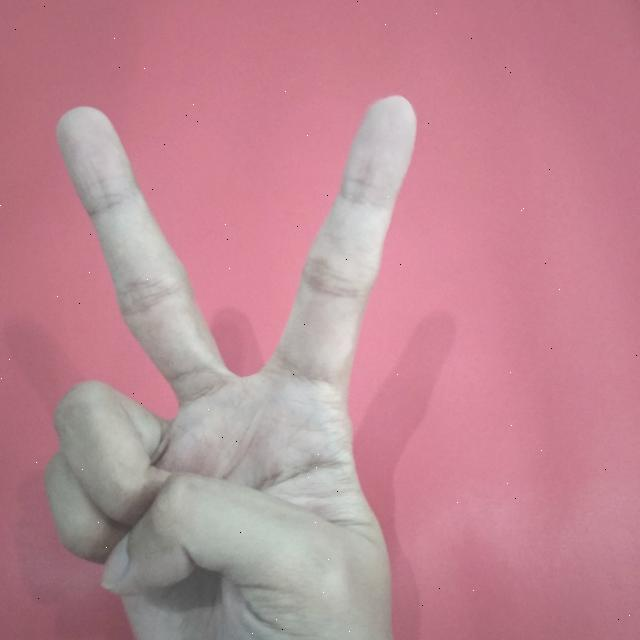V: (29, 93, 417, 640)
